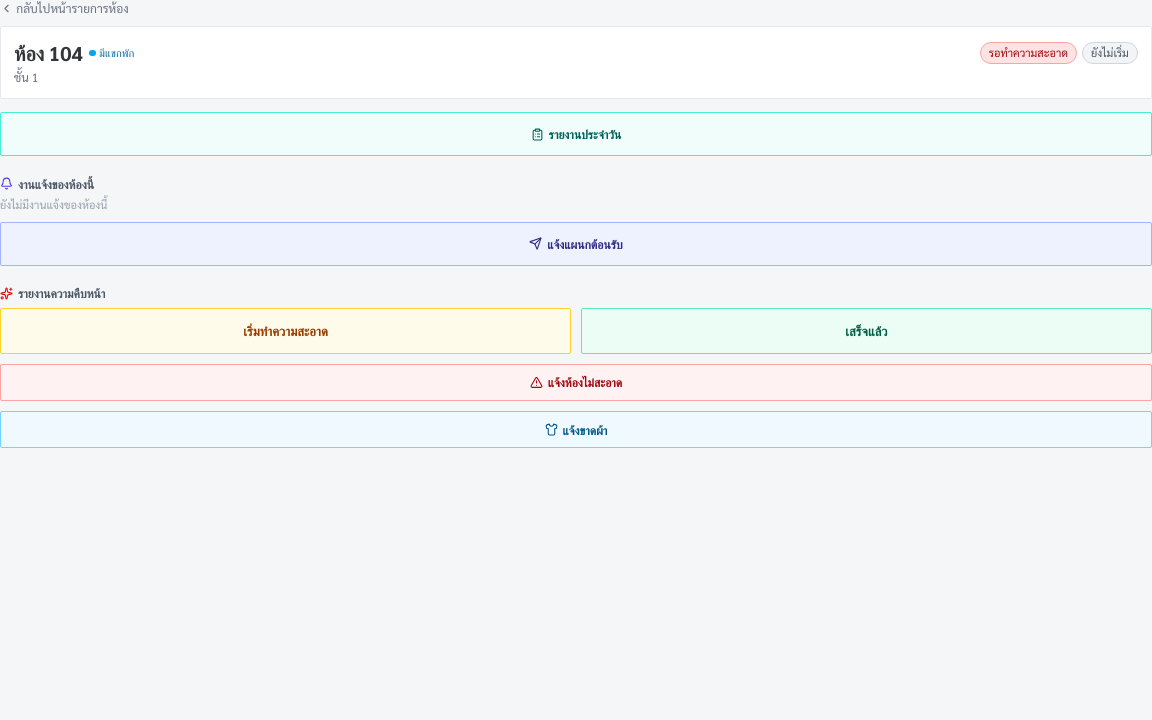
Test: แจ้งขาดผ้า — linen shortage › ยกเลิก files nothing and resets the counts
Expected: the heading "ห้อง 104" is shown, [14,40,83,66]
Click the button "แจ้งขาดผ้า".
click(576, 430)  # box [0,411,1151,448]
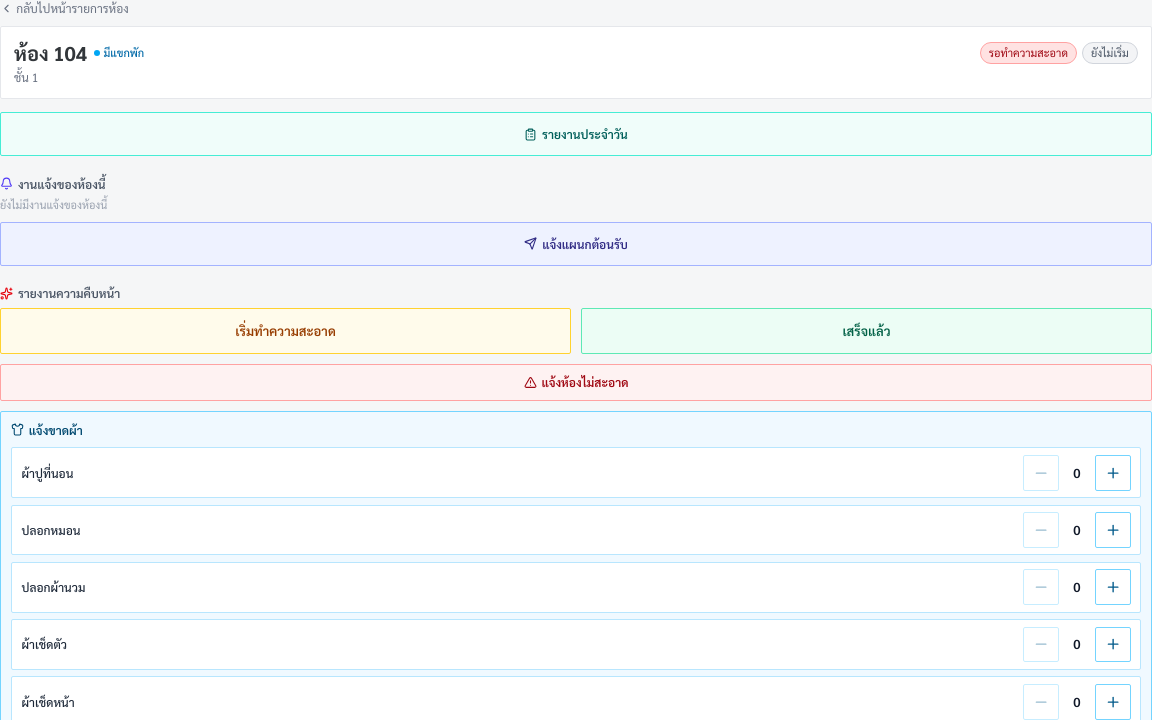
Click the button named "เพิ่ม ผ้าเช็ดตัว".
click(1113, 644)  # box [1095,626,1131,662]
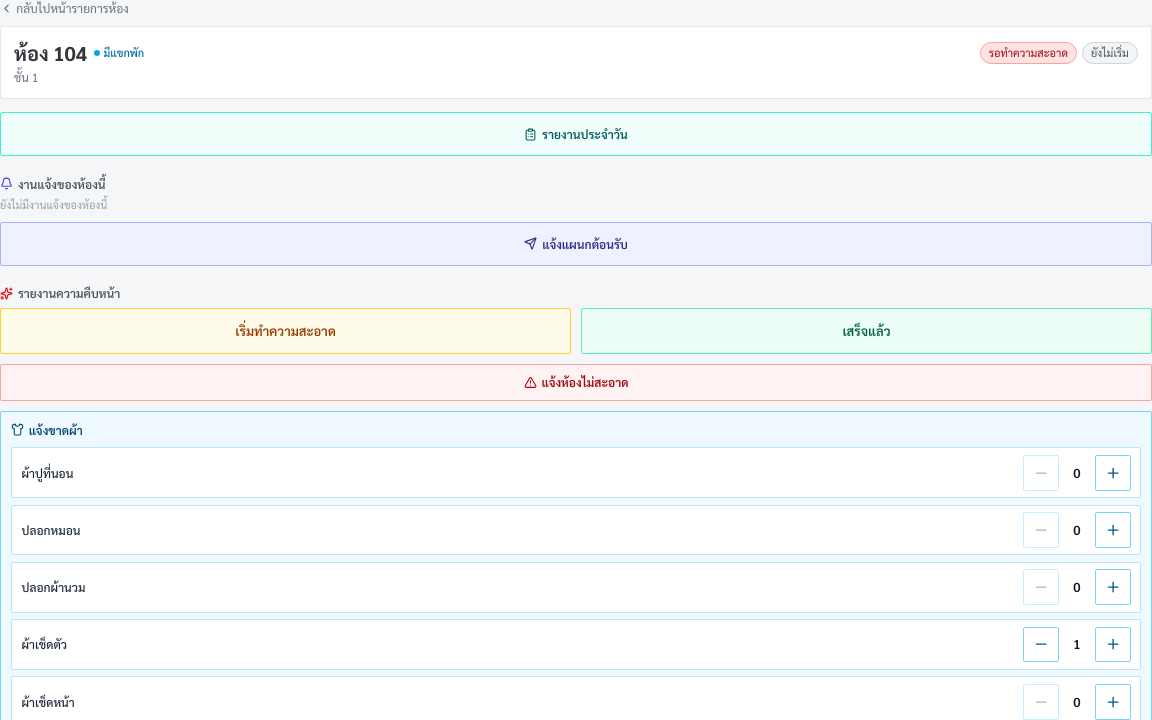
Click the button named "เพิ่ม ผ้าเช็ดตัว".
click(1113, 644)  # box [1095,626,1131,662]
(page scrolled)
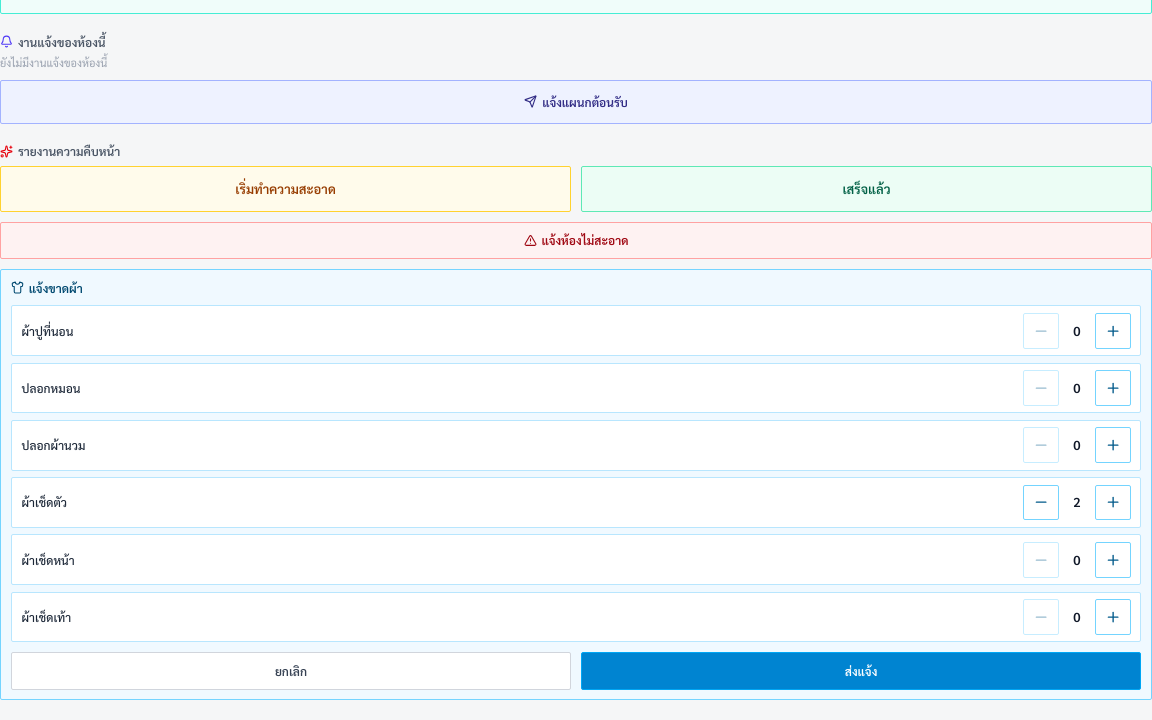
Click the button "ยกเลิก".
click(291, 671)  # box [11,652,571,690]
(page scrolled)
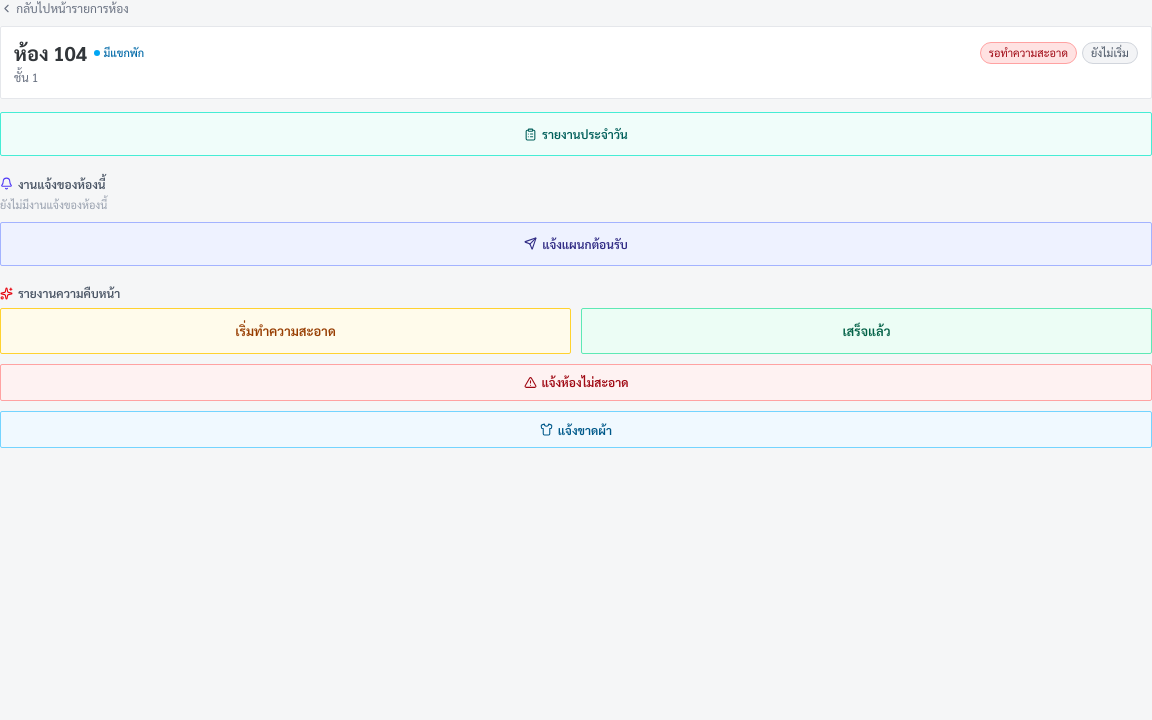
Expected: the button "ส่งแจ้ง" is gone
Click the button "แจ้งขาดผ้า".
click(576, 430)  # box [0,411,1151,448]
(page scrolled)
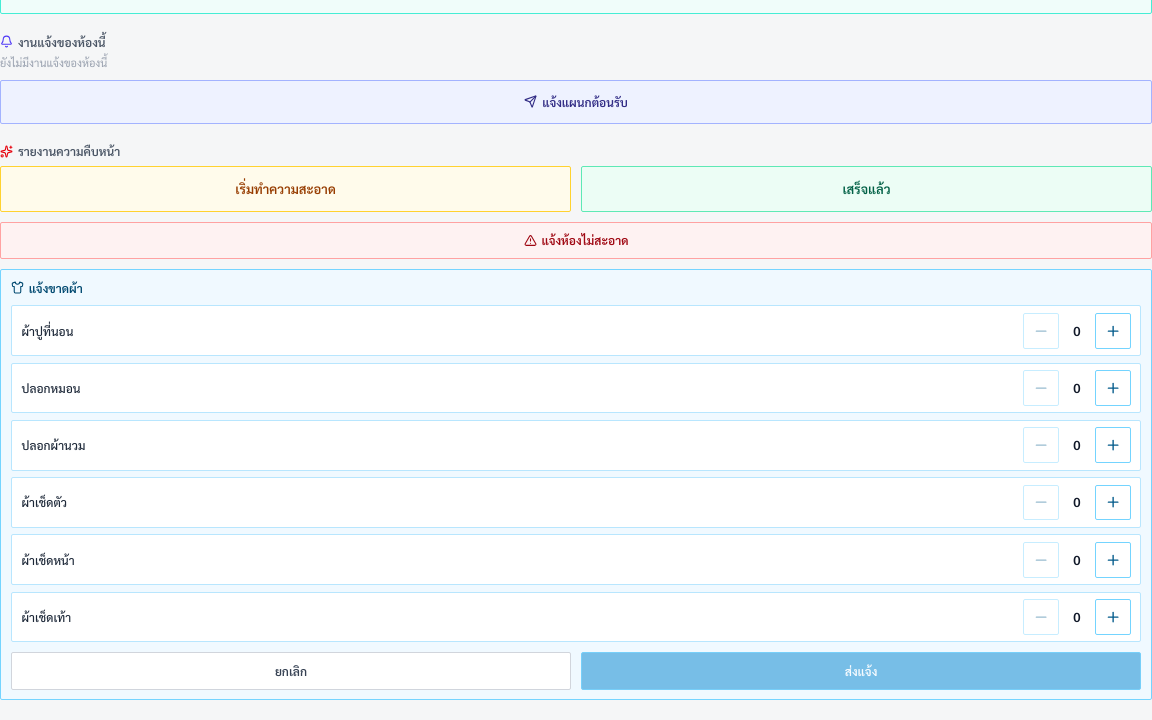
Expected: the button "ส่งแจ้ง" is disabled, [581,652,1141,690]
